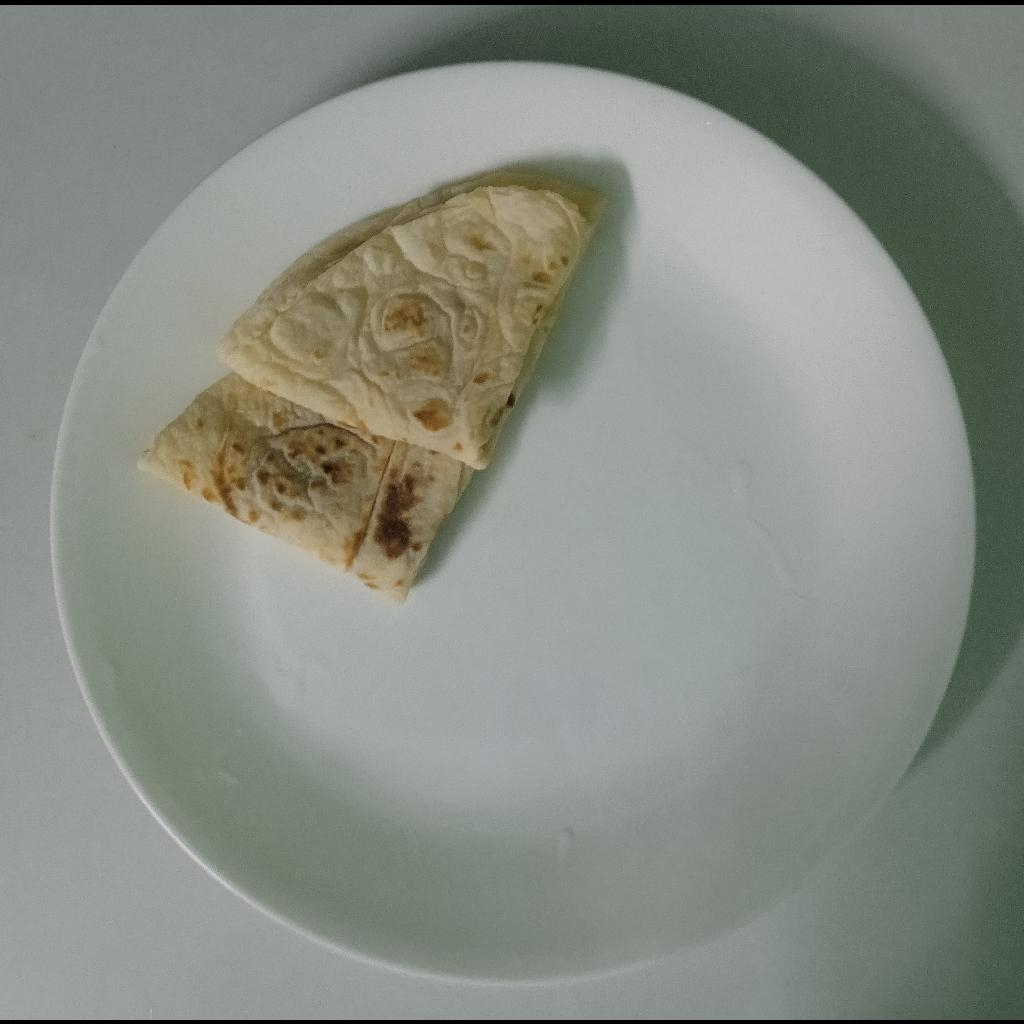ruti: (138, 167, 603, 609)
